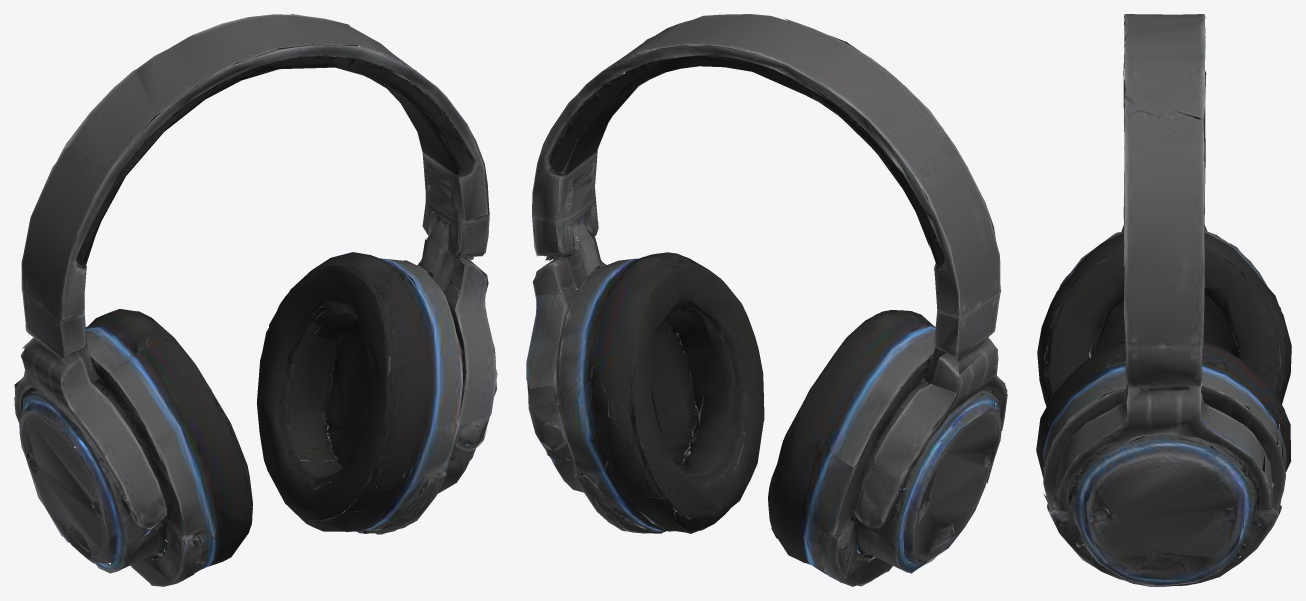
Rendered from piece_acc_headphones.glb.
3 renders of one model, left to right at view 1: azimuth 30°, elevation 25°; view 2: azimuth 150°, elevation 25°; view 3: azimuth 270°, elevation 25°, orthographic. The views are drawn at different scales.
Parts seen in each view (by area): view 1: trait_acc_headphones; view 2: trait_acc_headphones; view 3: trait_acc_headphones.
Part boxes in pixels (x1,y1,x2,y2): trait_acc_headphones: [14, 14, 497, 586]; trait_acc_headphones: [526, 14, 1007, 586]; trait_acc_headphones: [1036, 14, 1291, 586].
Size of the model in its own units: 0.8172 by 0.9384 by 0.4355.
1 material, 1 textured.
